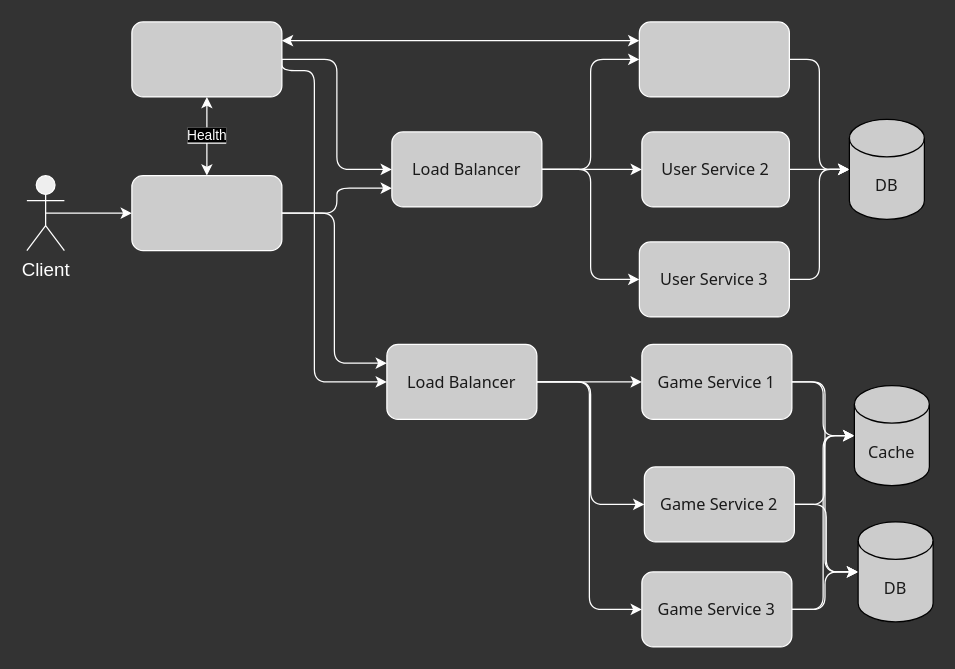
Some shapes in this 955 by 669 pixel diagram are drawn without their labels. Each missing label, with the centre of its shape:
Gateway: [206,212]
Service Discovery: [206,59]
User Service 1: [713,59]
